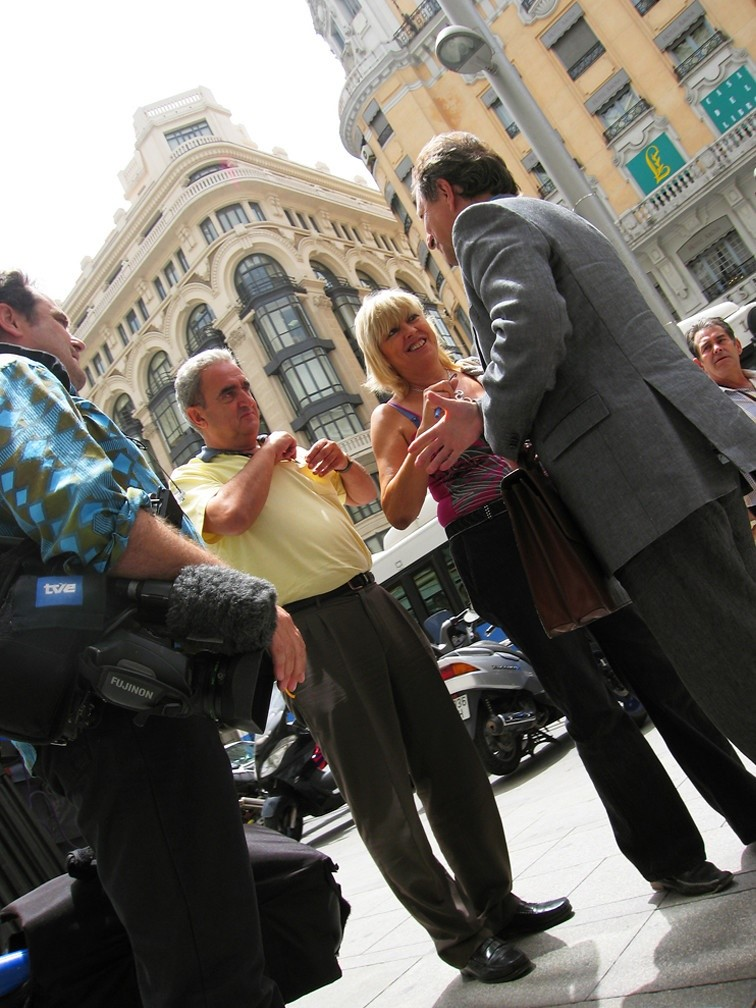face_no_mask: (414, 129, 510, 265), (2, 273, 84, 391), (169, 349, 266, 444), (355, 289, 444, 378), (686, 313, 746, 384)
